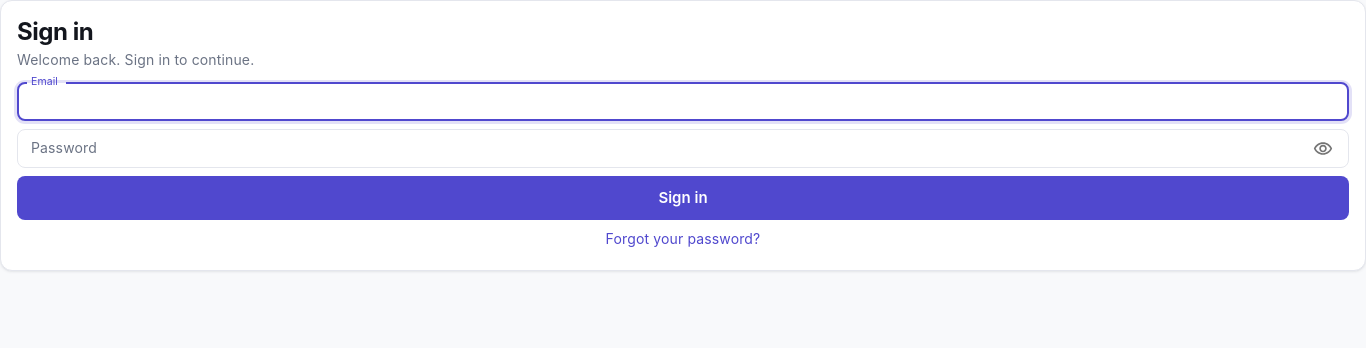
LoginForm › tells a wrong password apart from a disabled account
Type "olivia@gym.local" into the field labelled "Email".
click(683, 102); type("olivia@gym.local")  # box [17,83,1349,121]
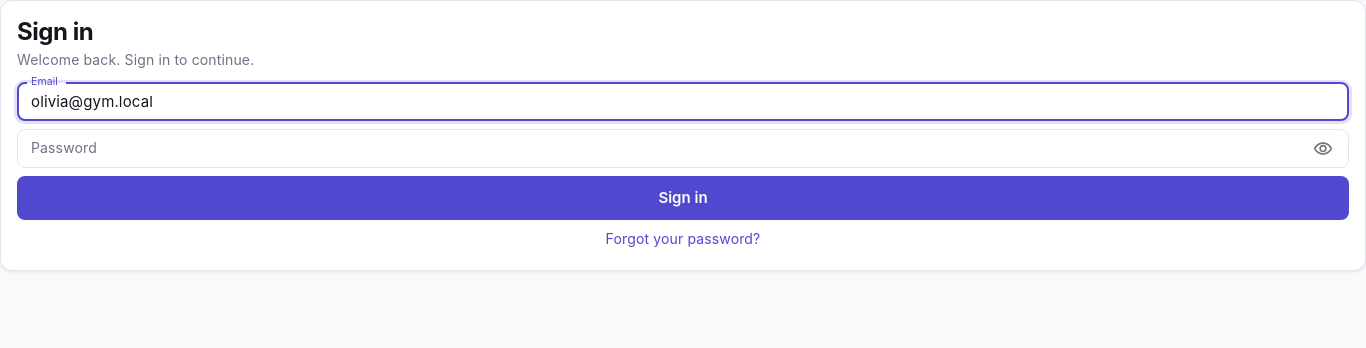
Type "wrong-password" into the password field labelled "Password".
click(658, 149); type("wrong-password")  # box [17,129,1300,168]
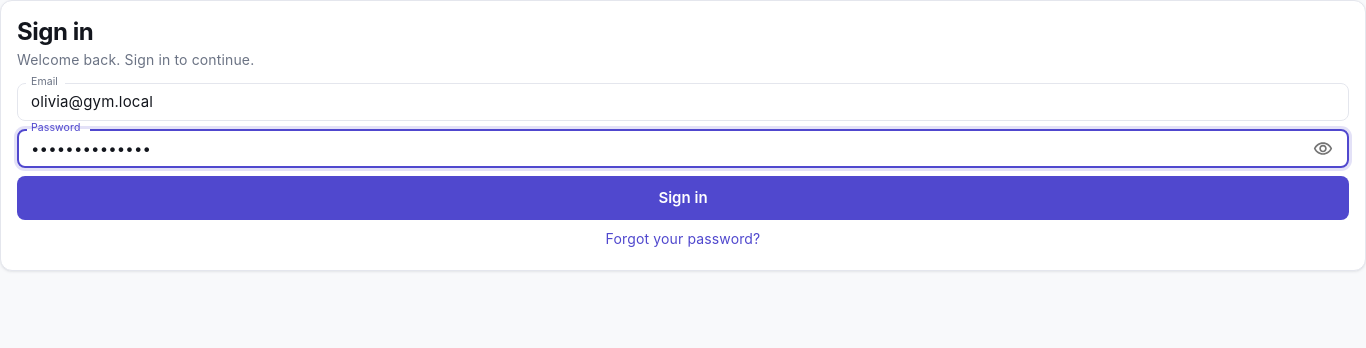
Click the button "Sign in".
click(683, 198)  # box [17,176,1349,220]
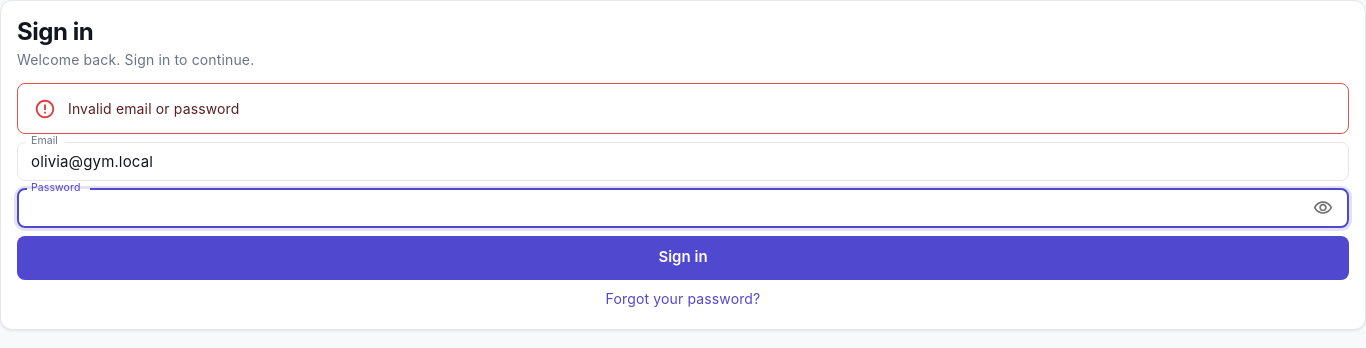
Expected: the message reads "Invalid email or password", [68,100,240,117]
